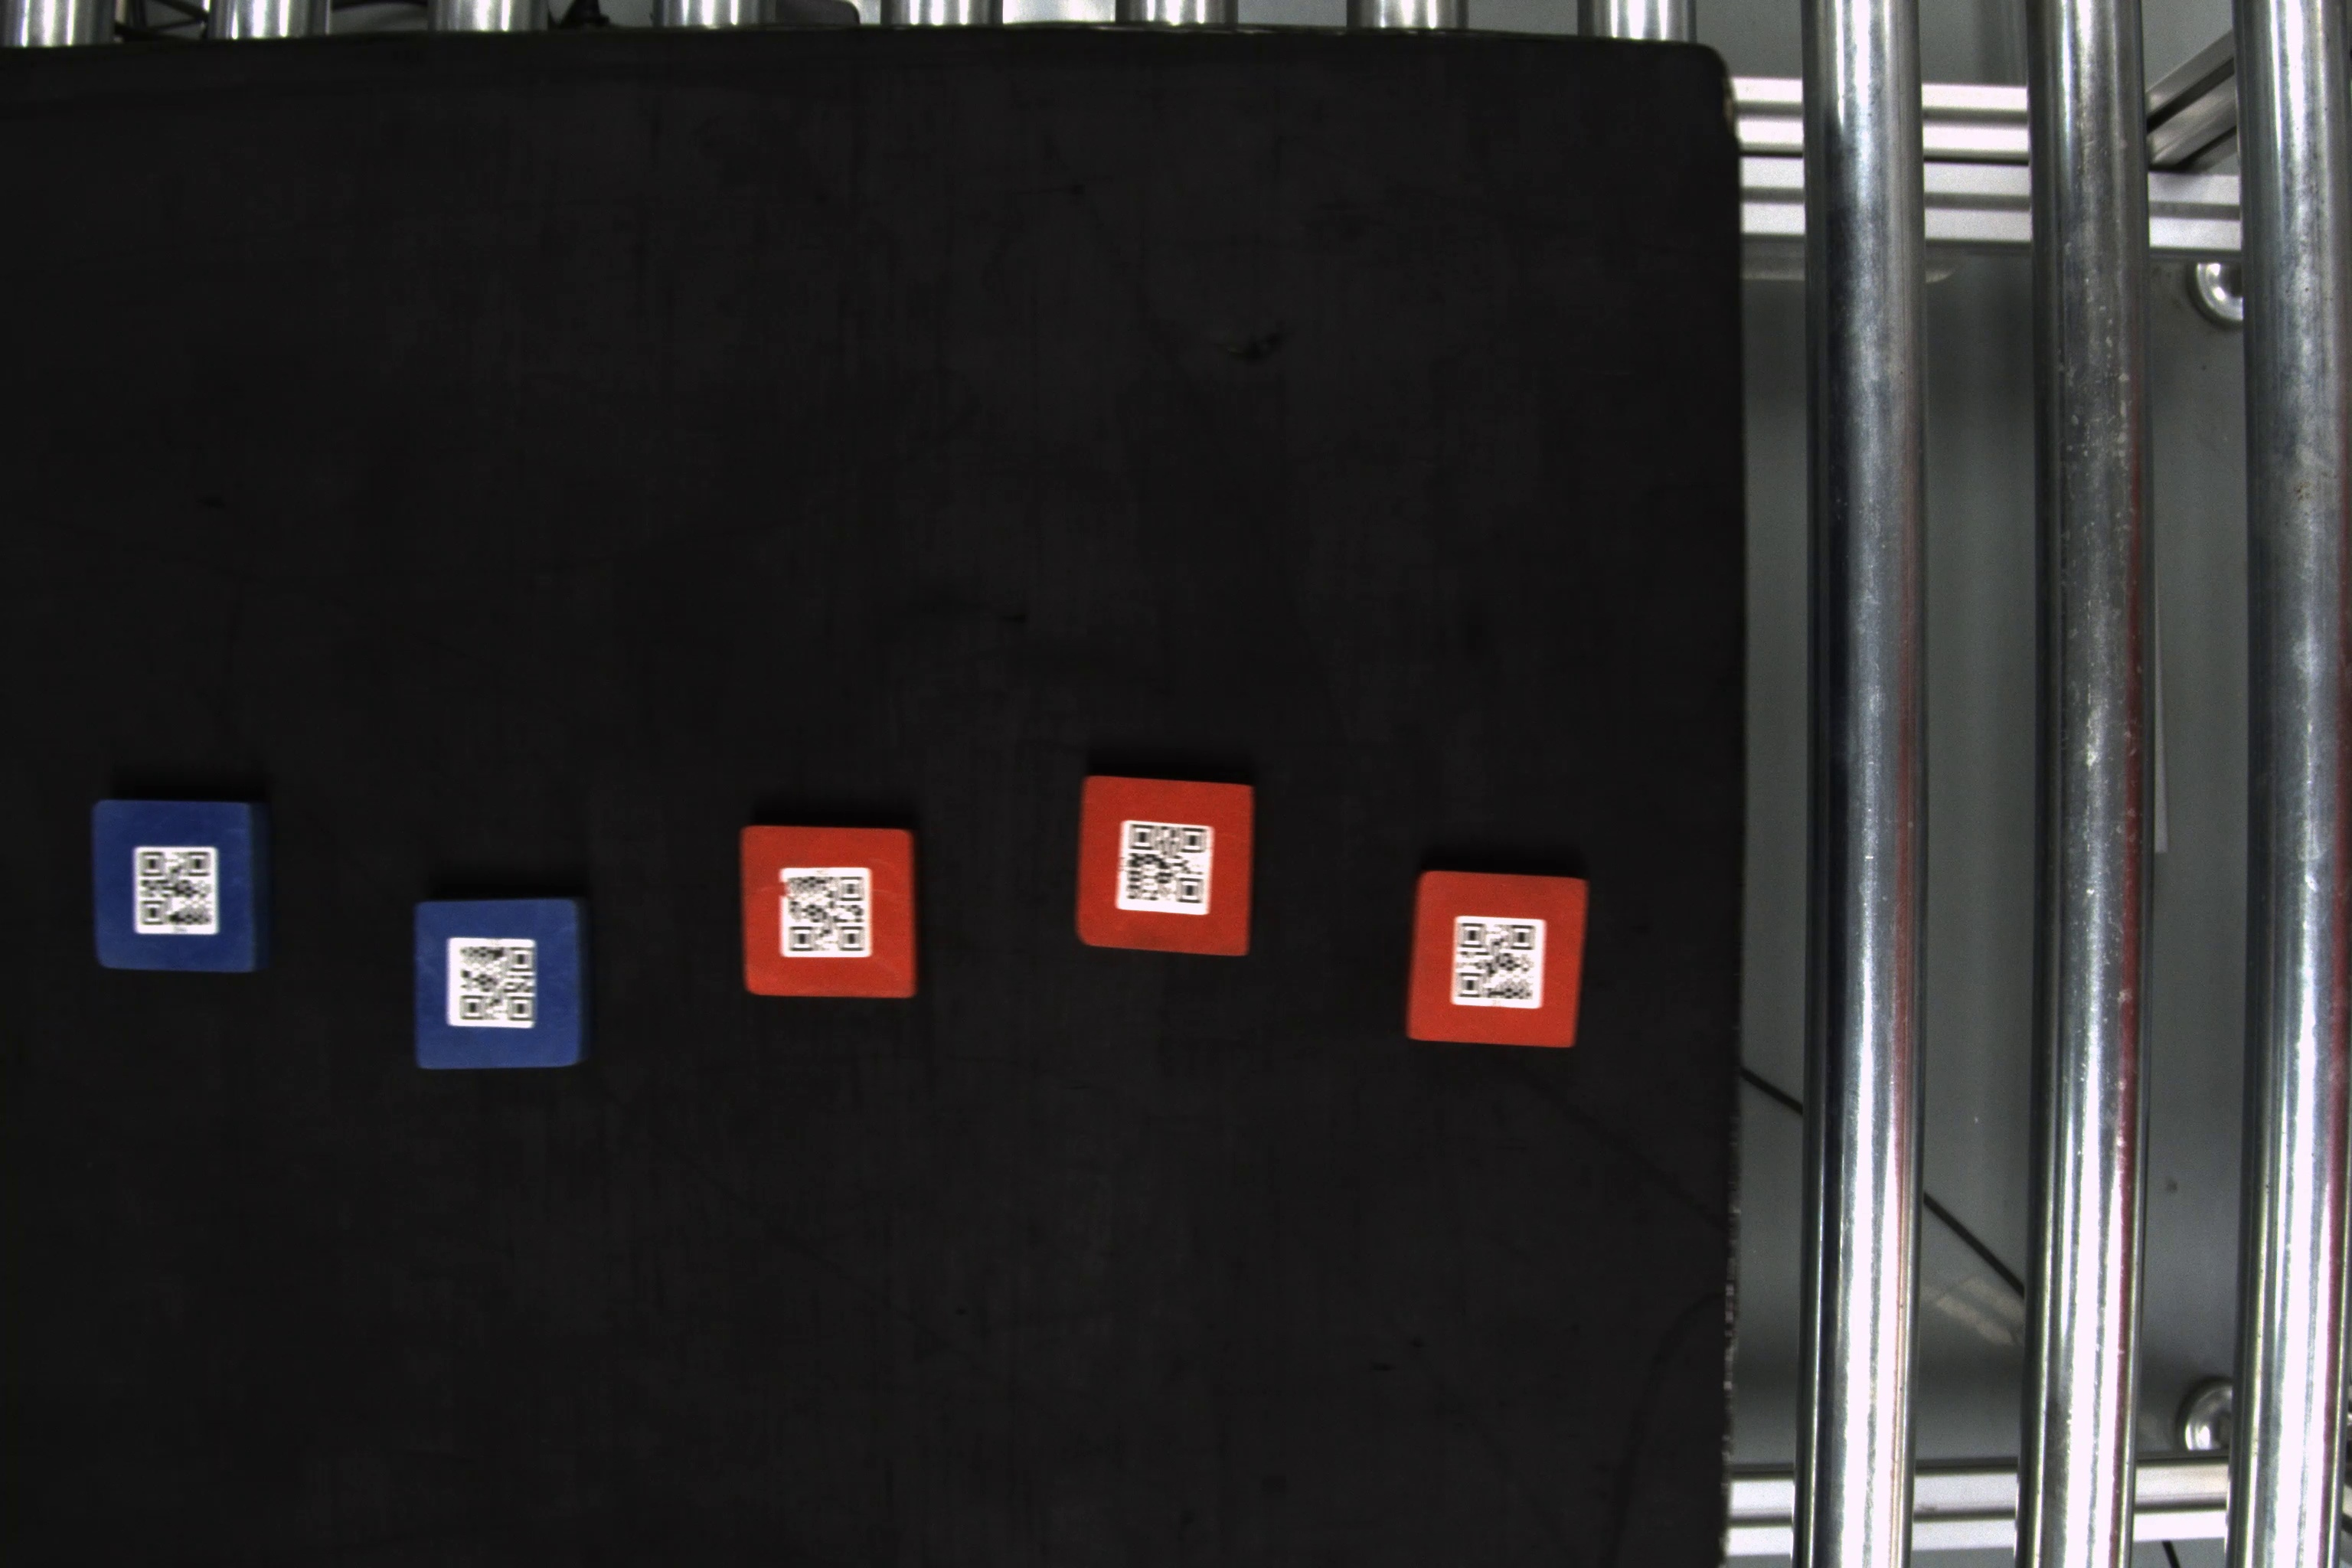wood: (1402, 859, 1592, 1055), (82, 794, 276, 982), (406, 889, 595, 1074), (735, 821, 922, 1004), (1073, 772, 1256, 957)
